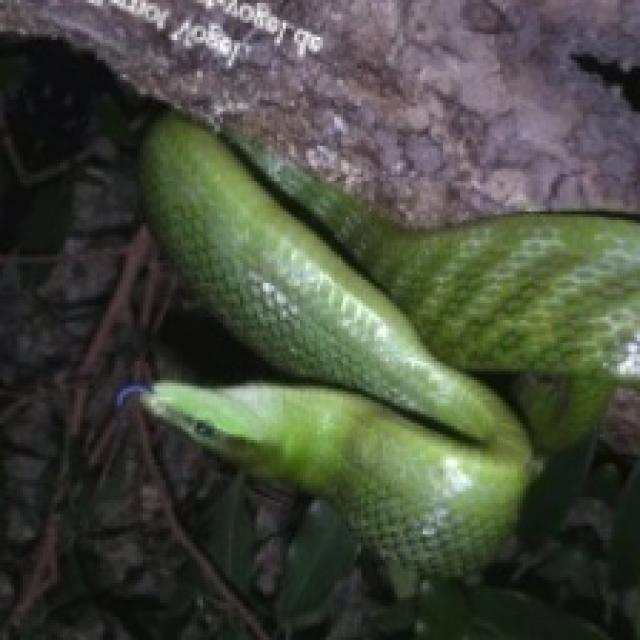red-tailed green ratsnake: (140, 111, 637, 574)
